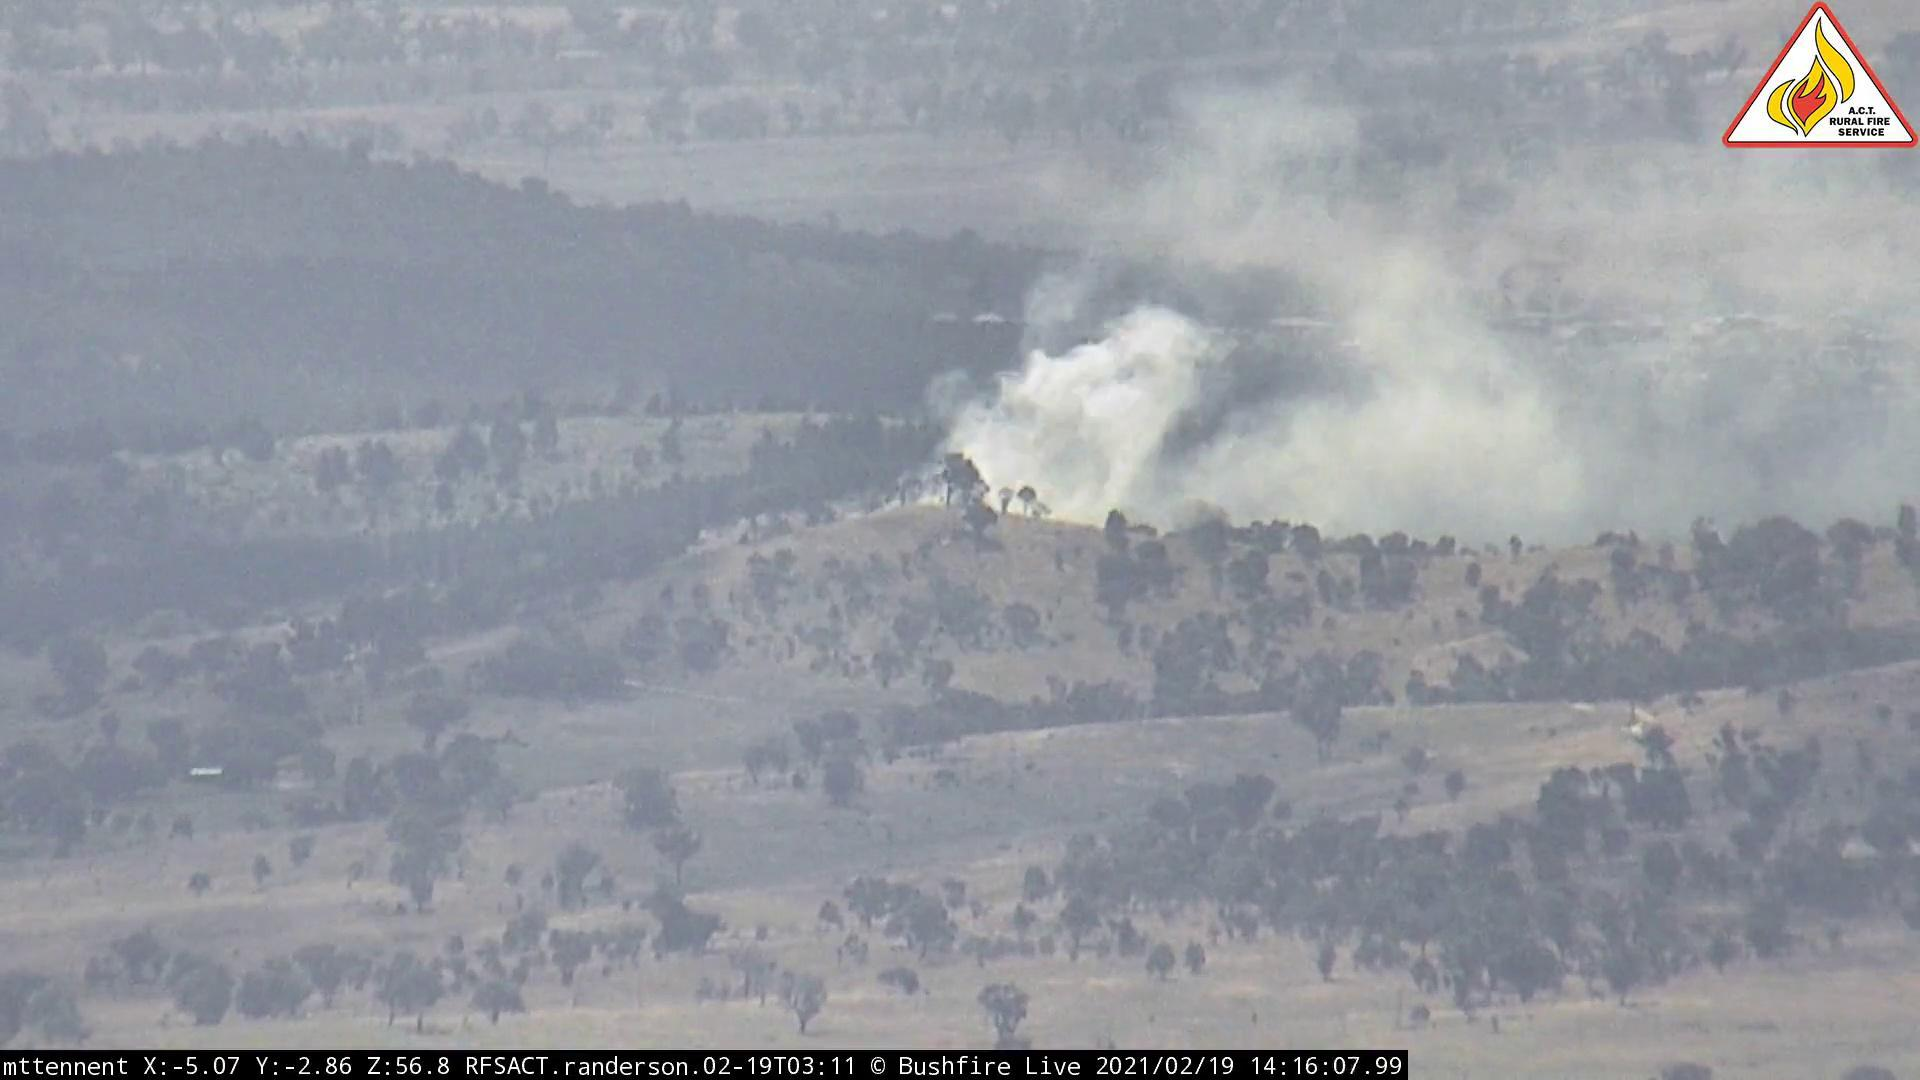Smoke: (835, 79, 1664, 556)
